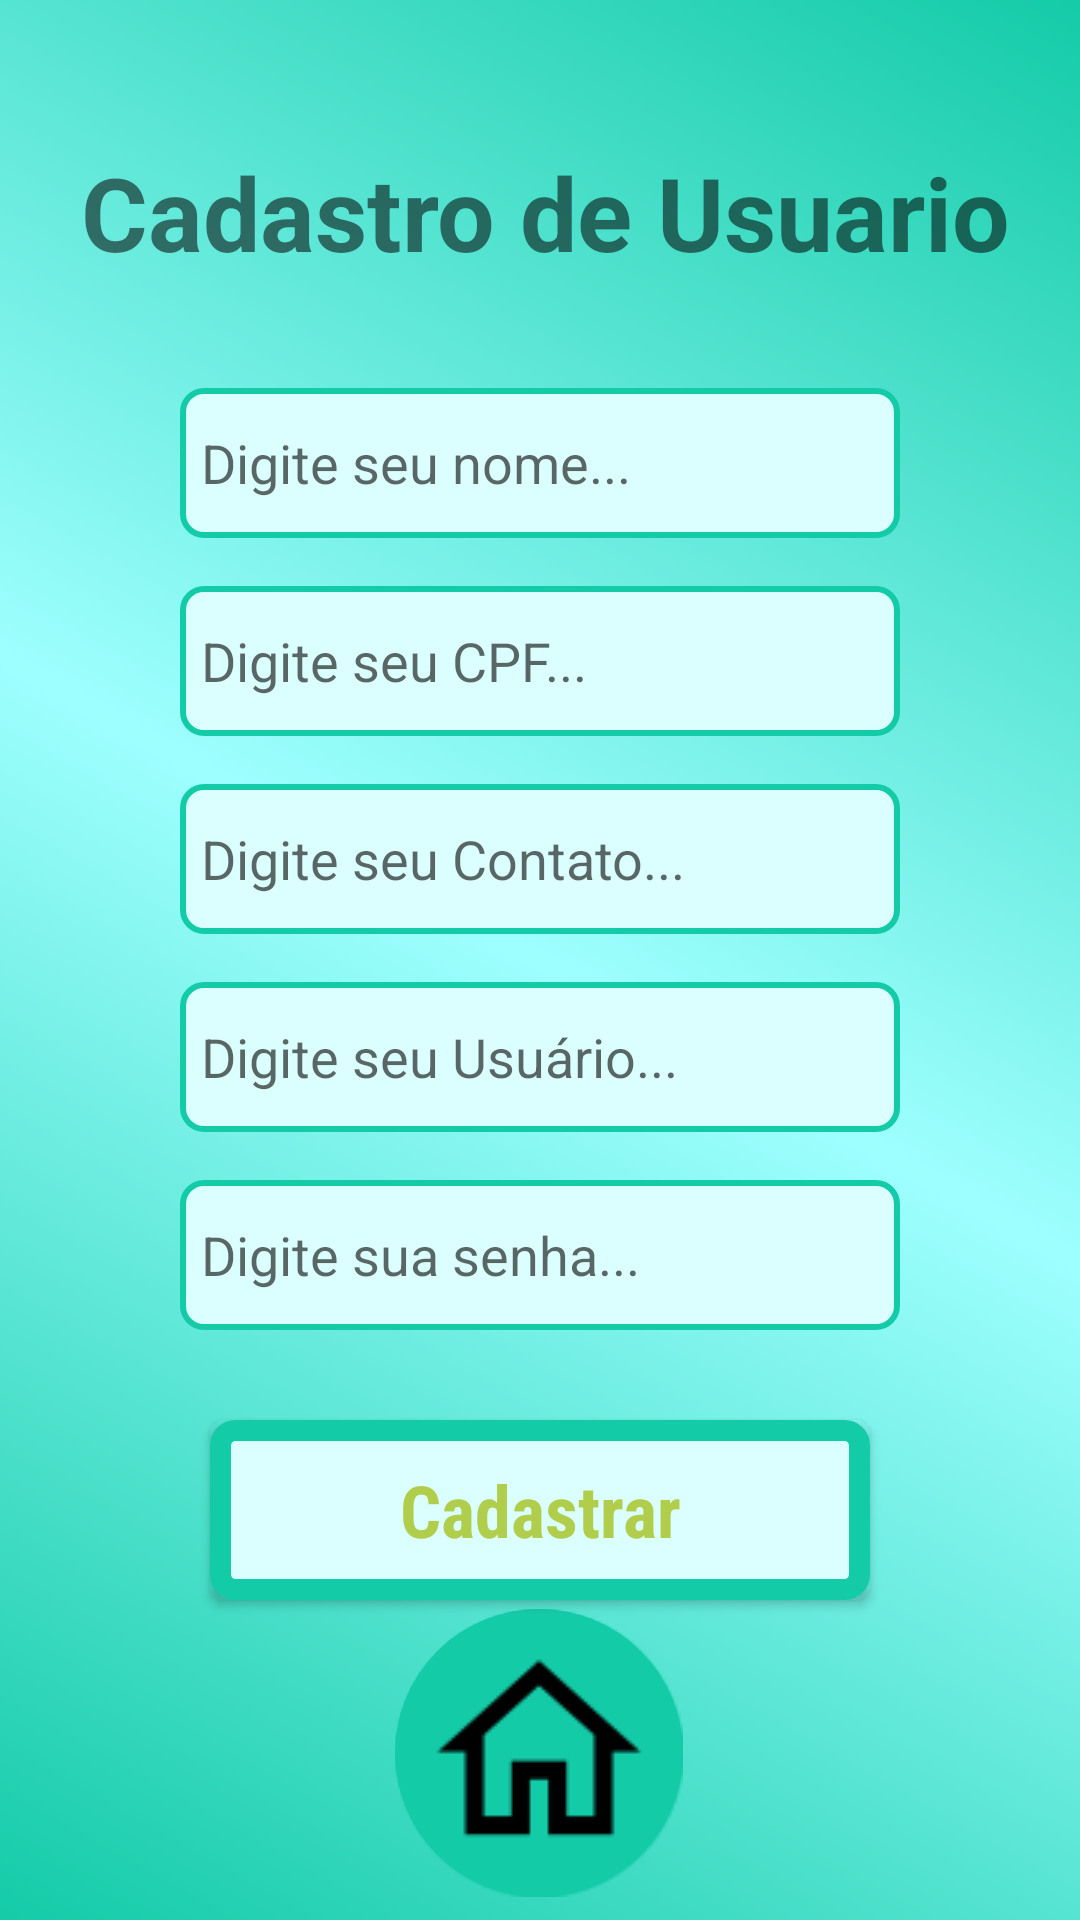

Locate icon controls on the screen. Image size 1080*1920, boxes as (x1, y1, x2, y2).
home: (395, 1609, 683, 1897)
